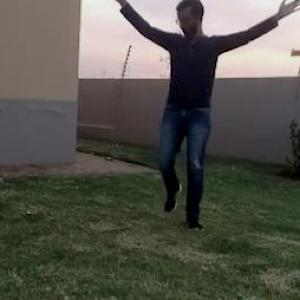takeoff: (101, 0, 299, 238)
